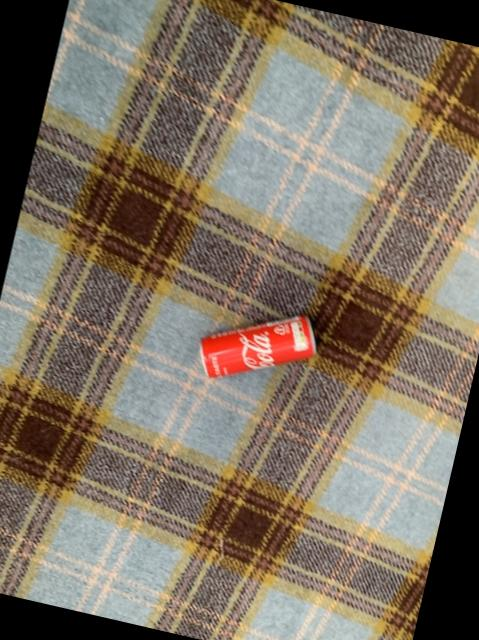metal: (199, 313, 313, 375)
